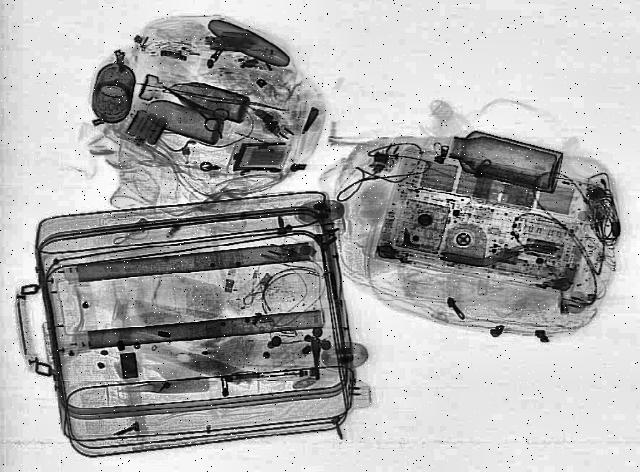Scissors: (150, 76, 238, 136)
